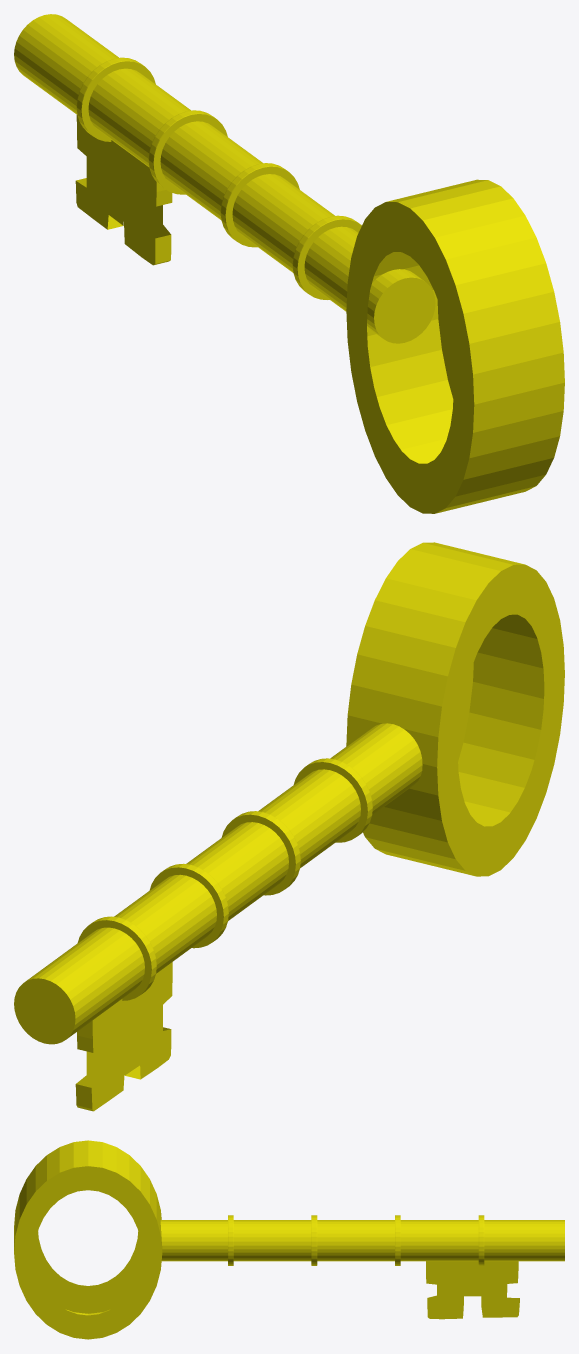
File: Key.fbx
3 views of the same model, one above another, from view 1: azimuth 30°, elevation 25°; view 2: azimuth 150°, elevation 25°; view 3: azimuth 270°, elevation 25° (orthographic). The views are drawn at different scales.
Visible parts, largest first — view 1: Cylinder.001, Cylinder, Cube; view 2: Cylinder.001, Cylinder, Cube; view 3: Cylinder, Cylinder.001, Cube.
Part boxes in pixels (bbox=[...]): Cylinder.001: bbox=[346, 179, 564, 513]; Cylinder: bbox=[14, 14, 435, 343]; Cube: bbox=[75, 115, 172, 265]; Cylinder.001: bbox=[346, 542, 564, 876]; Cylinder: bbox=[14, 723, 422, 1044]; Cube: bbox=[75, 962, 172, 1111]; Cylinder: bbox=[160, 1215, 564, 1265]; Cylinder.001: bbox=[14, 1140, 162, 1339]; Cube: bbox=[426, 1261, 519, 1319].
Size of the model in its own units: 47.14 by 148 by 427.
